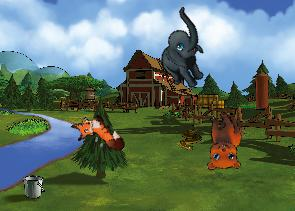bear: (195, 109, 248, 175)
elephant: (140, 6, 227, 95)
fox: (67, 105, 128, 166)
